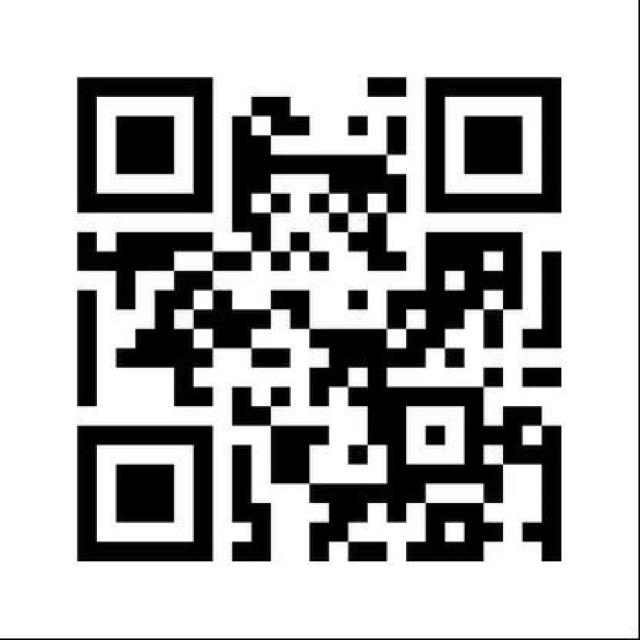QRCode: (63, 65, 578, 570)
